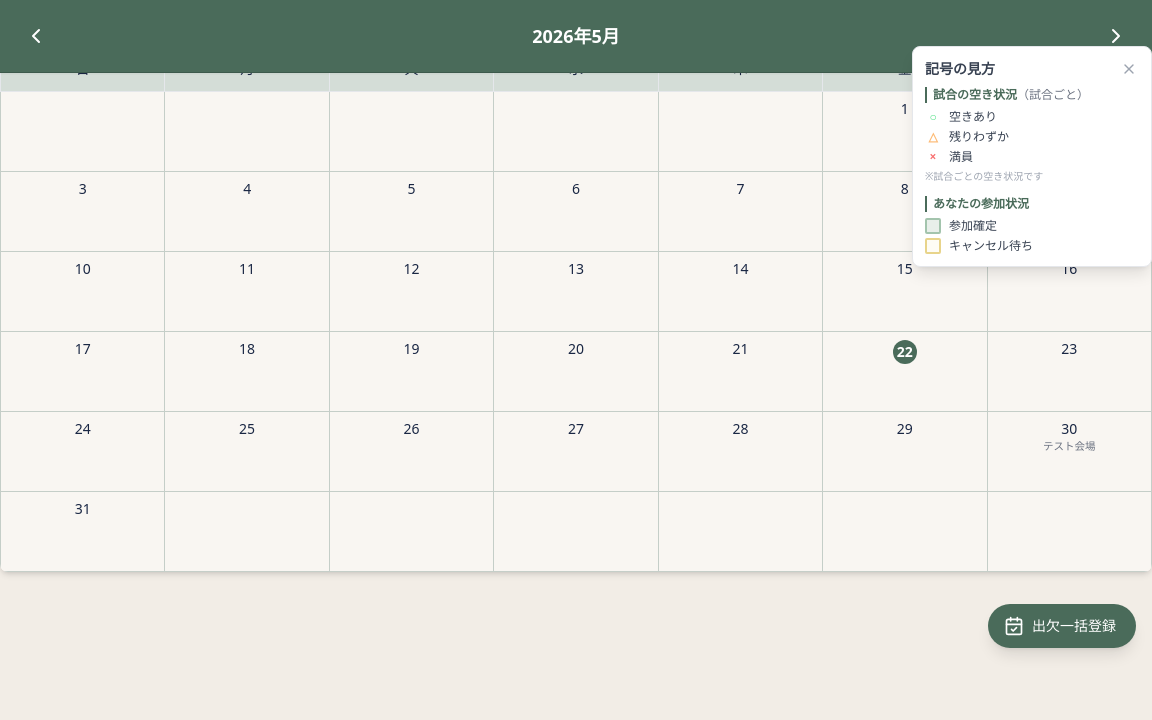
Test: PracticeList カレンダー練習日ポップアップ:再抽選ボタン › 管理者で未来日セッションのポップアップを開いても「再抽選」ボタンは表示されない
# カレンダーから 30 日のセルをクリック
Click the text "30": click(1069, 429) [1061, 420, 1077, 438]
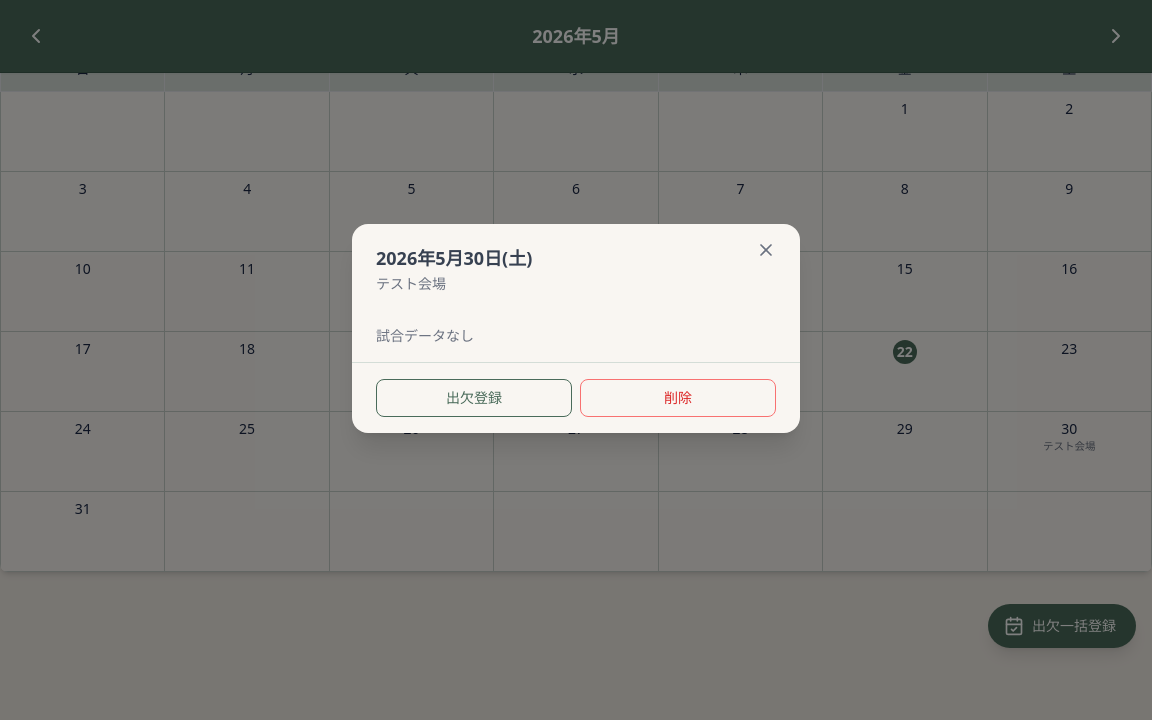
Result: the button "削除" is shown at [580, 378, 776, 416]
